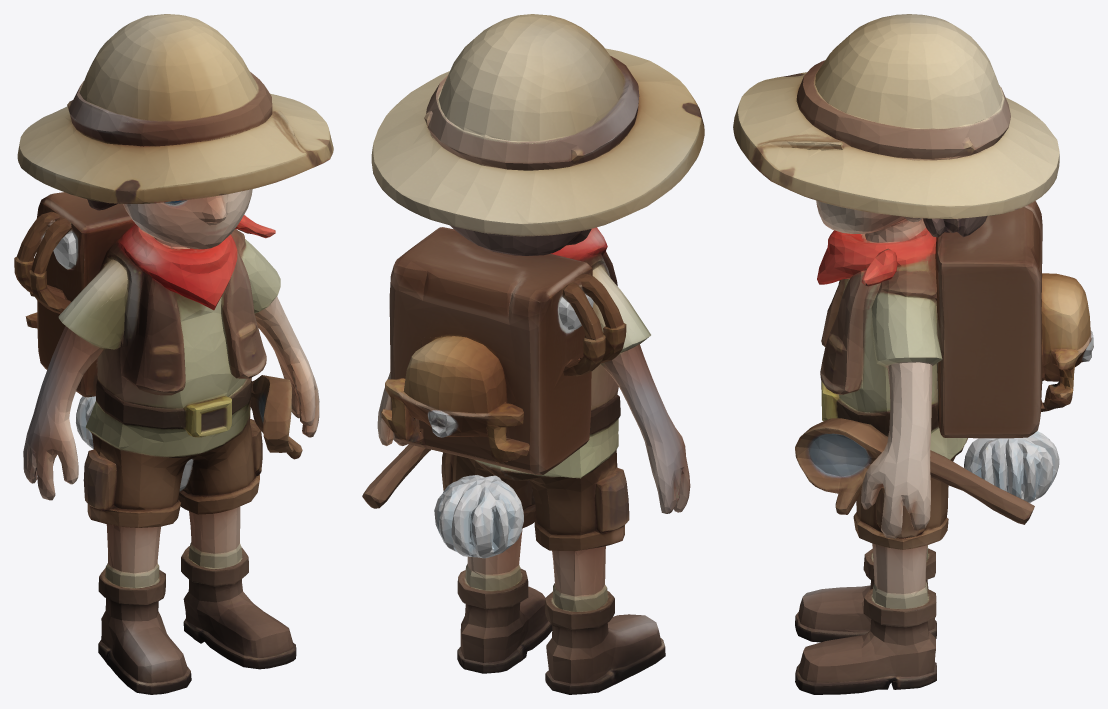
File: player-character.glb
The picture shows the model from 3 angles, left to right: view 1: azimuth 30°, elevation 25°; view 2: azimuth 150°, elevation 25°; view 3: azimuth 270°, elevation 25°; orthographic projection. The views are drawn at different scales.
Parts seen in each view (by area): view 1: world; view 2: world; view 3: world.
Part boxes in pixels (left/top/right/bottom): world: left=14, top=14, right=333, bottom=694; world: left=362, top=14, right=704, bottom=694; world: left=733, top=14, right=1093, bottom=694.
Size of the model in its own units: 0.4794 by 1 by 0.5173.
1 material, 1 textured.
